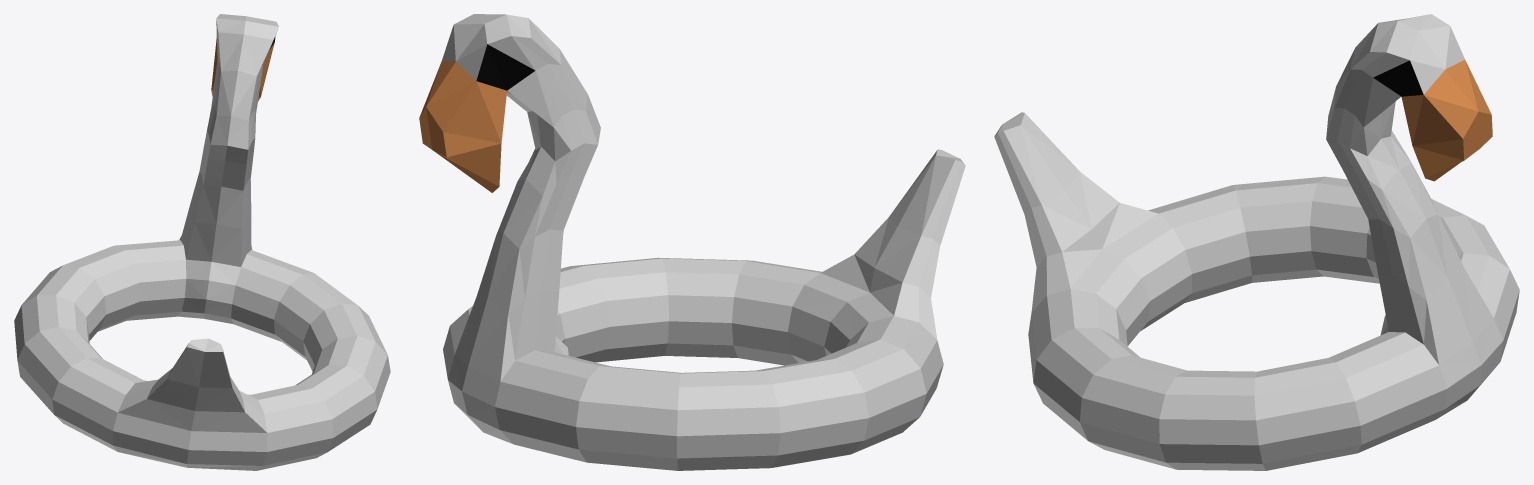
Rendered from phao vit.fbx.
3 renders of one model, left to right at view 1: azimuth 30°, elevation 25°; view 2: azimuth 150°, elevation 25°; view 3: azimuth 270°, elevation 25°, orthographic. The views are drawn at different scales.
Parts seen in each view (by area): view 1: FLOAT2.001; view 2: FLOAT2.001; view 3: FLOAT2.001.
Boxes of the visible parts, left/top/right/bottom form: FLOAT2.001: left=14, top=14, right=390, bottom=470; FLOAT2.001: left=419, top=14, right=965, bottom=470; FLOAT2.001: left=994, top=14, right=1519, bottom=470.
Bounding box in the file's own units: 255 × 246 × 271.
